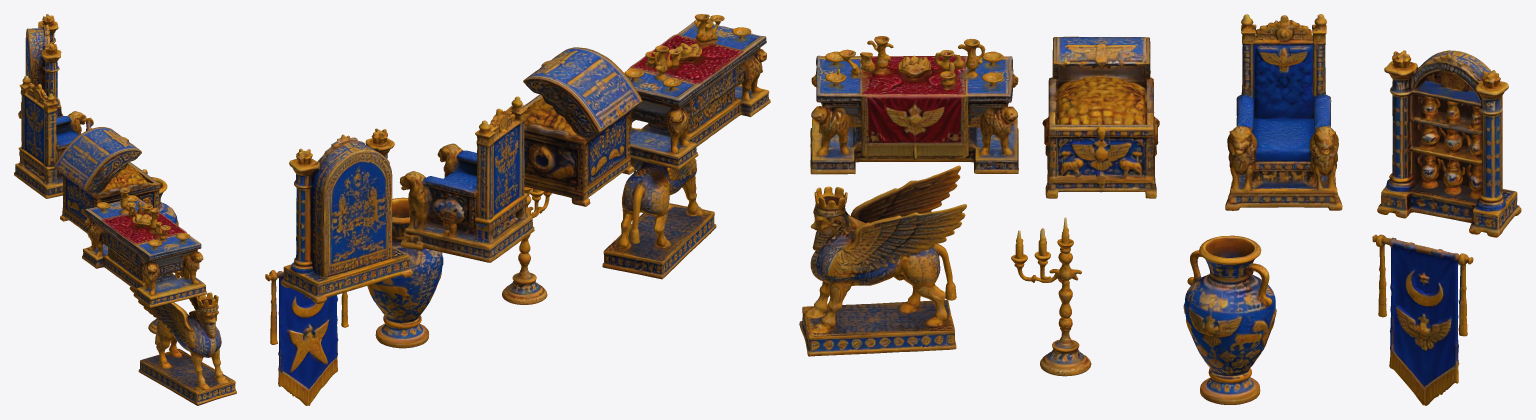
Rendered from اثاث الخزانة.glb.
3 views of the same model, side by side, from view 1: azimuth 30°, elevation 25°; view 2: azimuth 150°, elevation 25°; view 3: azimuth 270°, elevation 25° (orthographic). The views are drawn at different scales.
Parts seen in each view (by area): view 1: world; view 2: world; view 3: world.
Boxes of the visible parts, x1=… form: world: x1=14, y1=14, x2=236, y2=405; world: x1=265, y1=14, x2=770, y2=405; world: x1=799, y1=14, x2=1521, y2=405.
Bounding box in the file's own units: 0.3932 × 0.5 × 0.9996.
Materials: 1 (1 with a texture image).
